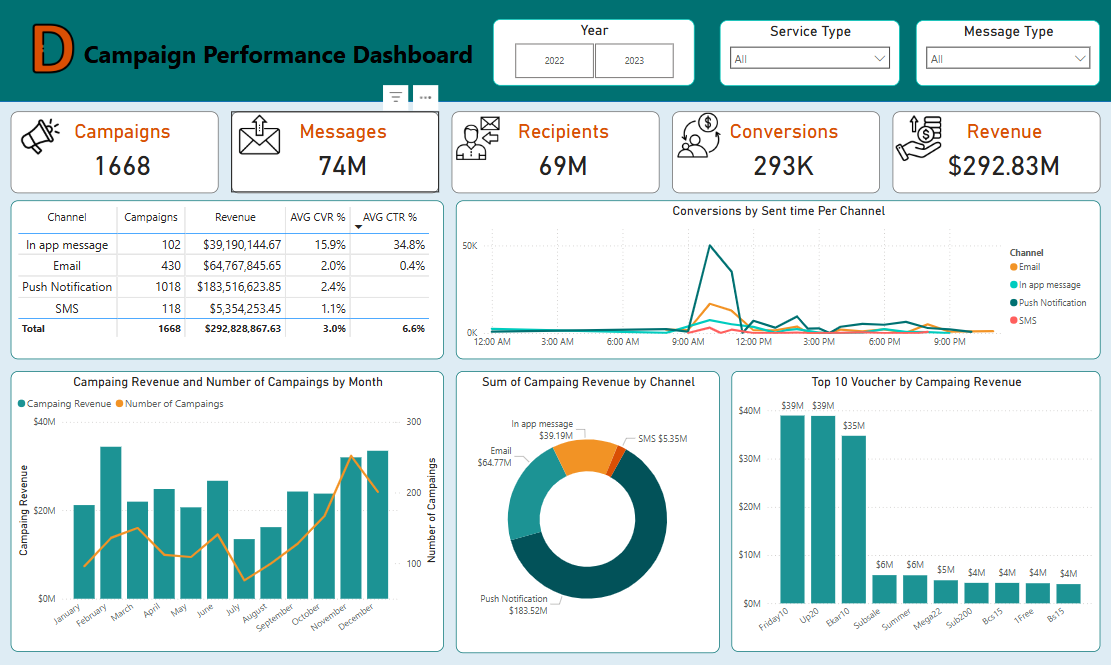

Layout of this report page (visuals, bound fields, positions):
{"tool":"powerbi","page":{"name":"Page 1","canvas":[1500,900],"ordinal":0},"visuals":[{"type":"shape","box":[0,0,1500,138.6],"z":0},{"type":"card","title":"Campaigns","fields":{"Values":["CountNonNull(New Data.Name ID)"]},"box":[15.7,151,280,110],"z":1000},{"type":"card","title":"Messages","fields":{"Values":["Sum(New Data.Messages Sent)"]},"box":[312.9,151,280,110],"z":2000},{"type":"card","title":"Recipients","fields":{"Values":["Sum(New Data.Recipients)"]},"box":[610,151,280,110],"z":3000},{"type":"card","title":"Conversions","fields":{"Values":["Sum(New Data.Conversions)"]},"box":[907.1,151,280,110],"z":4000},{"type":"card","title":"Revenue","fields":{"Values":["Sum(New Data.Campaing Revenue)"]},"box":[1204.3,151,280,110],"z":5000},{"type":"tableEx","fields":{"Values":["New Data.Channel","New Data.Name ID","Sum(New Data.Campaing Revenue)","Avg(New Data.% CVR(Conversion Rate))","Avg(New Data.% CTR(Click-Through Rate))"]},"box":[15.7,271.4,584.3,214.3],"z":6000},{"type":"slicer","title":"Message Type","fields":{"Values":["New Data.Message type"]},"box":[1235.7,28.6,248.6,88.6],"z":7000},{"type":"slicer","title":"Service Type","fields":{"Values":["New Data.Service Type"]},"box":[971.4,28.6,242.9,88.6],"z":8000},{"type":"columnChart","title":"Top 10 Voucher by Campaing Revenue","fields":{"Category":["New Data.Voucher Name"],"Y":["Sum(New Data.Campaing Revenue)"]},"box":[987.1,501.4,497.1,378.6],"z":9000},{"type":"slicer","title":"Year","fields":{"Values":["New Data.Year"]},"box":[665.7,27.1,271.4,90],"z":10000},{"type":"lineClusteredColumnComboChart","fields":{"Category":["New Data.Sent Date.Variation.Date Hierarchy.Year","New Data.Sent Date.Variation.Date Hierarchy.Quarter","New Data.Sent Date.Variation.Date Hierarchy.Month","New Data.Sent Date.Variation.Date Hierarchy.Day"],"Y2":["CountNonNull(New Data.Name ID)"],"Y":["Sum(New Data.Campaing Revenue)"]},"box":[15.7,501.4,584.3,378.6],"z":11000},{"type":"lineChart","title":"Conversions by Sent time Per Channel","fields":{"Series":["New Data.Channel"],"Category":["New Data.Sent time"],"Y":["Sum(New Data.Conversions)"]},"box":[615.7,271.4,868.6,214.3],"z":12000},{"type":"donutChart","fields":{"Category":["New Data.Channel"],"Y":["Sum(New Data.Campaing Revenue)"]},"box":[615.7,501.4,355.7,380],"z":13000},{"type":"image","box":[25.7,28.6,95.7,77.1],"z":13001},{"type":"textbox","box":[92.9,47.1,558.6,74.3],"z":13002},{"type":"image","box":[17.1,154.3,77.1,62.8],"z":13003},{"type":"image","box":[318.6,150,65,65],"z":13004},{"type":"image","box":[908.6,148.6,70,70],"z":13005},{"type":"image","box":[611.4,152.9,68.6,70],"z":13006},{"type":"image","box":[1202.9,151.4,72.8,72.8],"z":13007}]}

Visuals, with their boxes in screenshot pixels (x1, y1, x2, y2), scaled from the page's 1500x900 canvas onto the 1111x665 screenshot:
shape: BBox(0, 0, 1110, 102)
"Campaigns" card: BBox(12, 112, 219, 193)
"Messages" card: BBox(232, 112, 439, 193)
"Recipients" card: BBox(452, 112, 659, 193)
"Conversions" card: BBox(672, 112, 879, 193)
"Revenue" card: BBox(892, 112, 1099, 193)
tableEx - New Data.Channel x New Data.Name ID: BBox(12, 201, 444, 359)
"Message Type" slicer: BBox(915, 21, 1099, 87)
"Service Type" slicer: BBox(719, 21, 899, 87)
"Top 10 Voucher by Campaing Revenue" columnChart: BBox(731, 370, 1099, 650)
"Year" slicer: BBox(493, 20, 694, 87)
lineClusteredColumnComboChart - New Data.Sent Date.Variation.Date Hierarchy.Year x New Data.Sent Date.Variation.Date Hierarchy.Quarter: BBox(12, 370, 444, 650)
"Conversions by Sent time Per Channel" lineChart: BBox(456, 201, 1099, 359)
donutChart - New Data.Channel x Sum(New Data.Campaing Revenue): BBox(456, 370, 719, 651)
image: BBox(19, 21, 90, 78)
textbox: BBox(69, 35, 483, 90)
image: BBox(13, 114, 70, 160)
image: BBox(236, 111, 284, 159)
image: BBox(673, 110, 725, 162)
image: BBox(453, 113, 504, 165)
image: BBox(891, 112, 945, 166)
